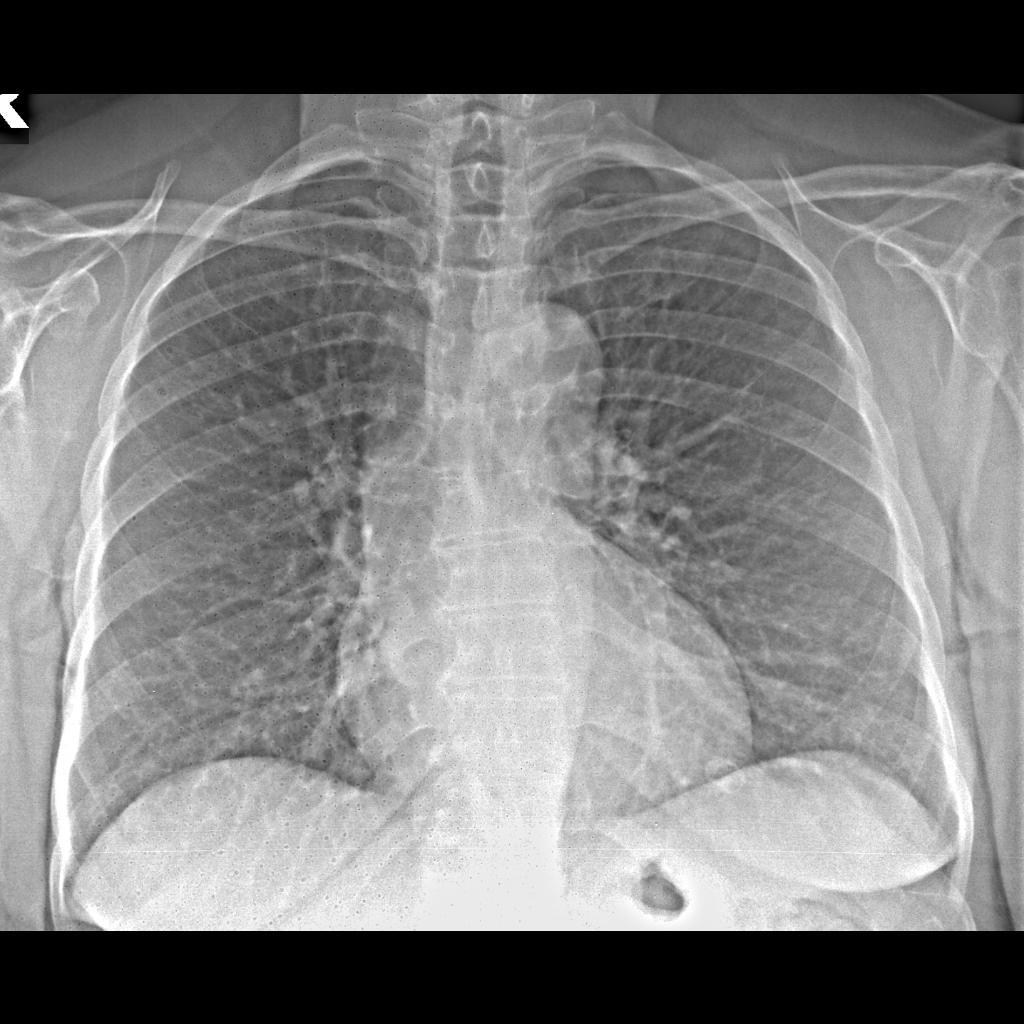Nodule: (694, 747, 756, 804)
